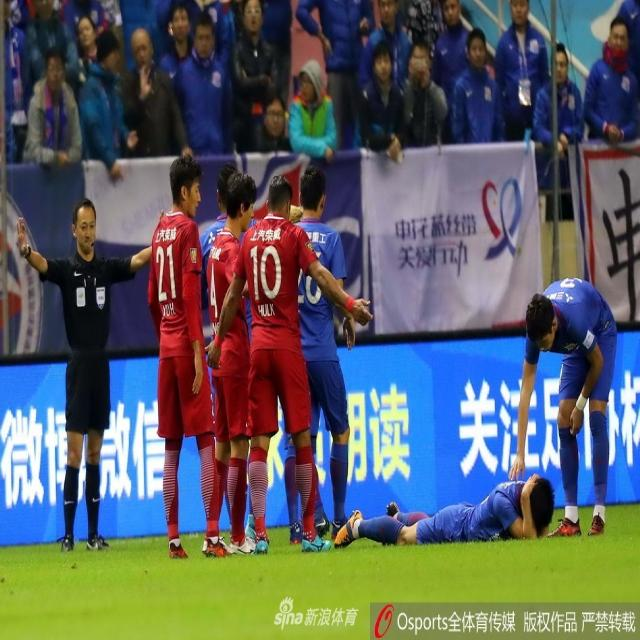10-: (0, 0, 636, 559)
down: (338, 455, 558, 553)
